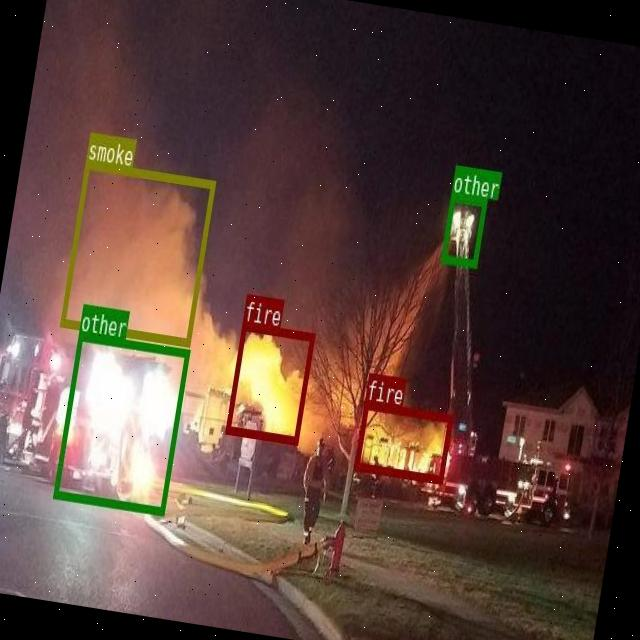fire: (226, 322, 314, 443), (354, 400, 453, 482)
smoke: (60, 160, 216, 346)
